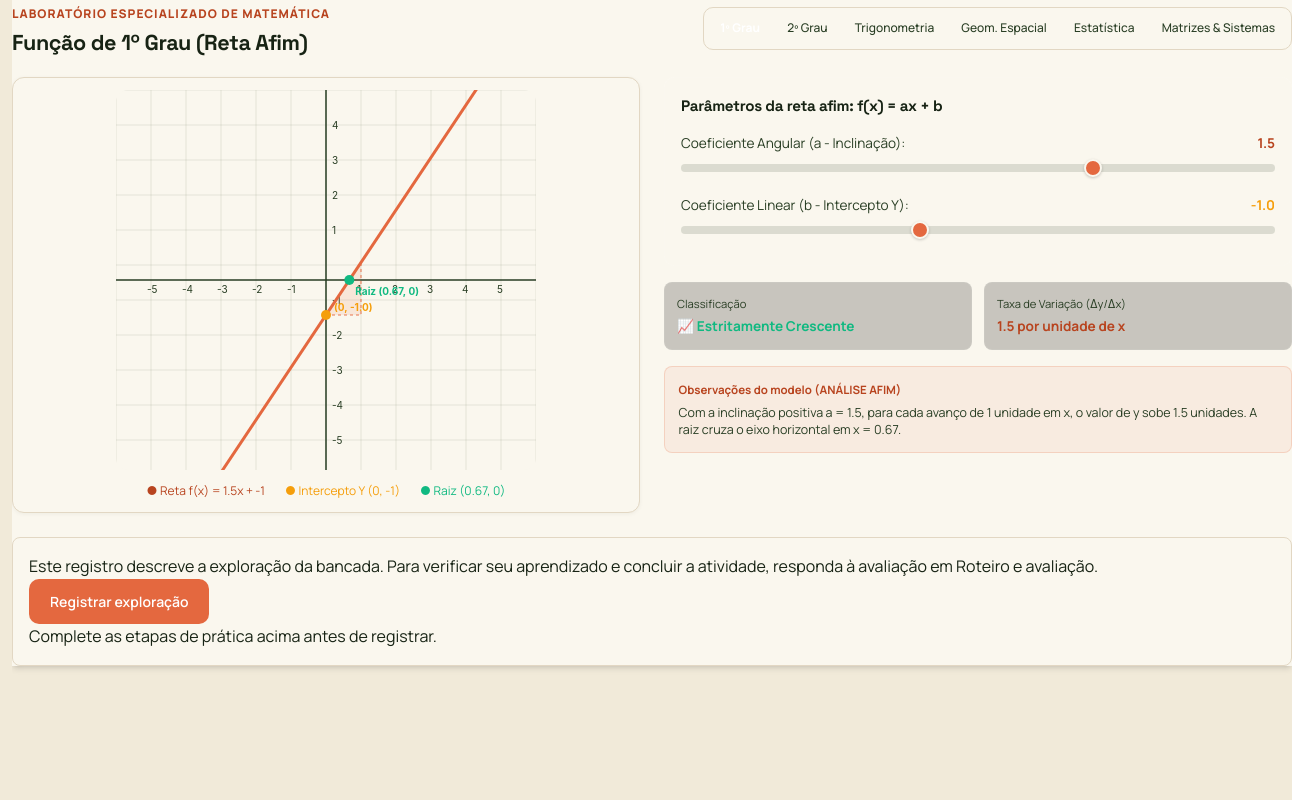
Test case: a matemática só registra após interação e conserva retry quando o salvamento falha
Expected: the button "Registrar exploração" is disabled, [29,579,210,624]
Set the slider below "Coeficiente Angular (a - Inclinação):" to "3": (1195, 168) [681,164,1275,172]
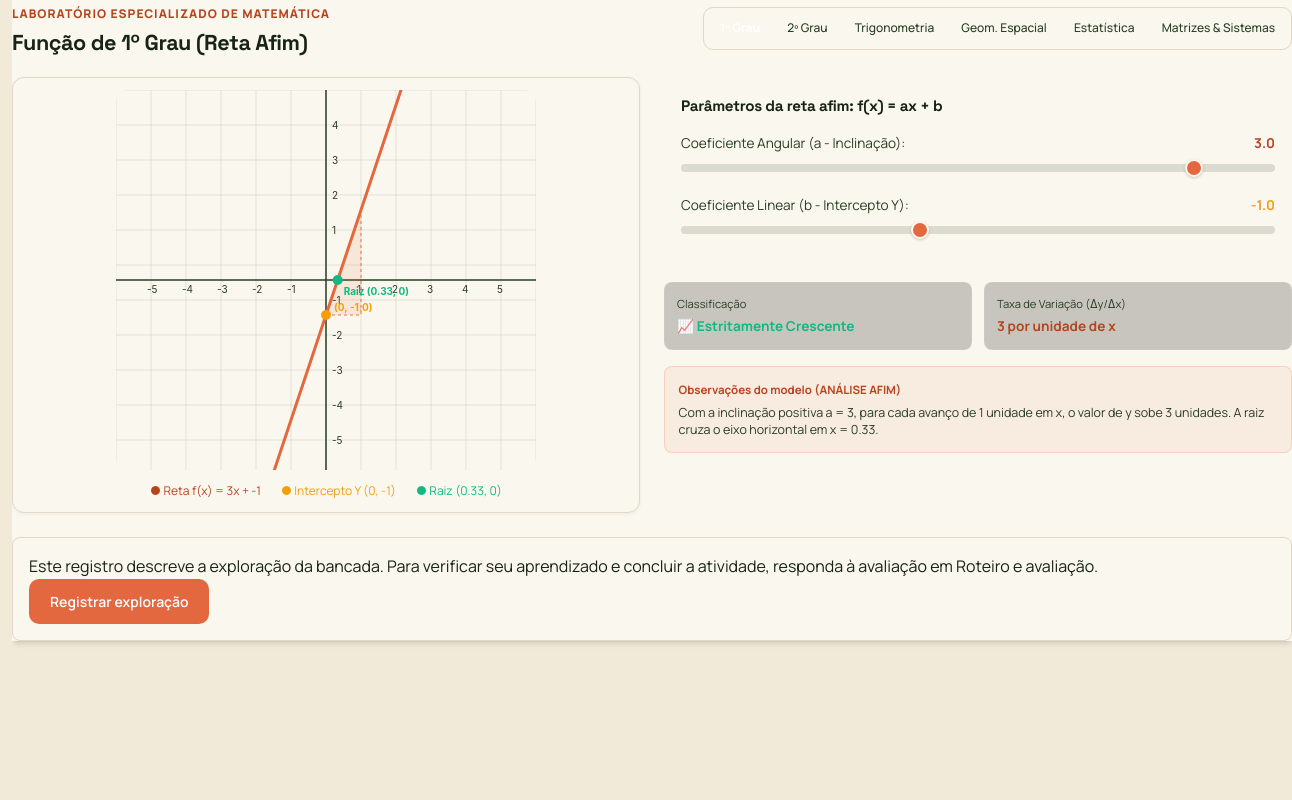
Click the button "Registrar exploração": (119, 602) [29,579,210,624]
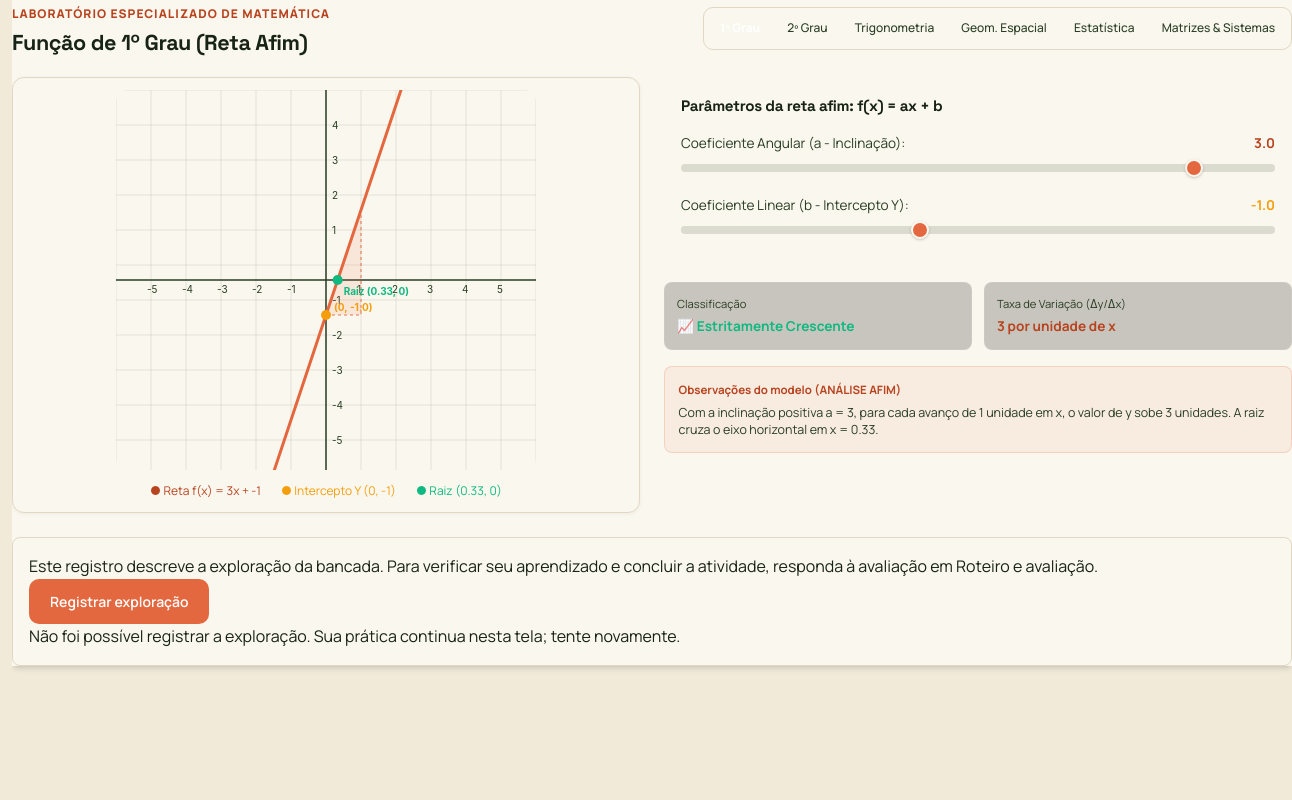
Result: the message is shown at [29,625,680,647]
Click the button "Registrar exploração": (119, 602) [29,579,210,624]
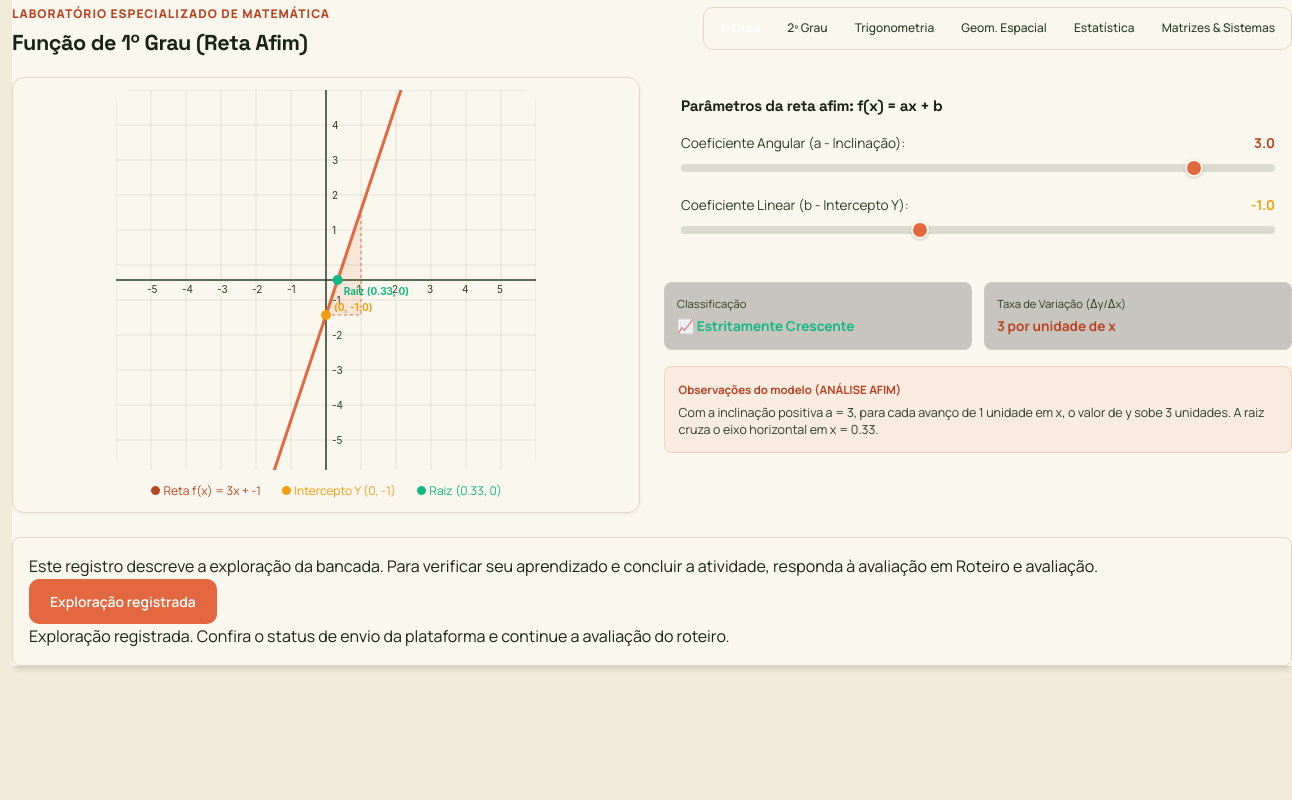
Result: the button "Exploração registrada" is shown at [29,579,217,624]
